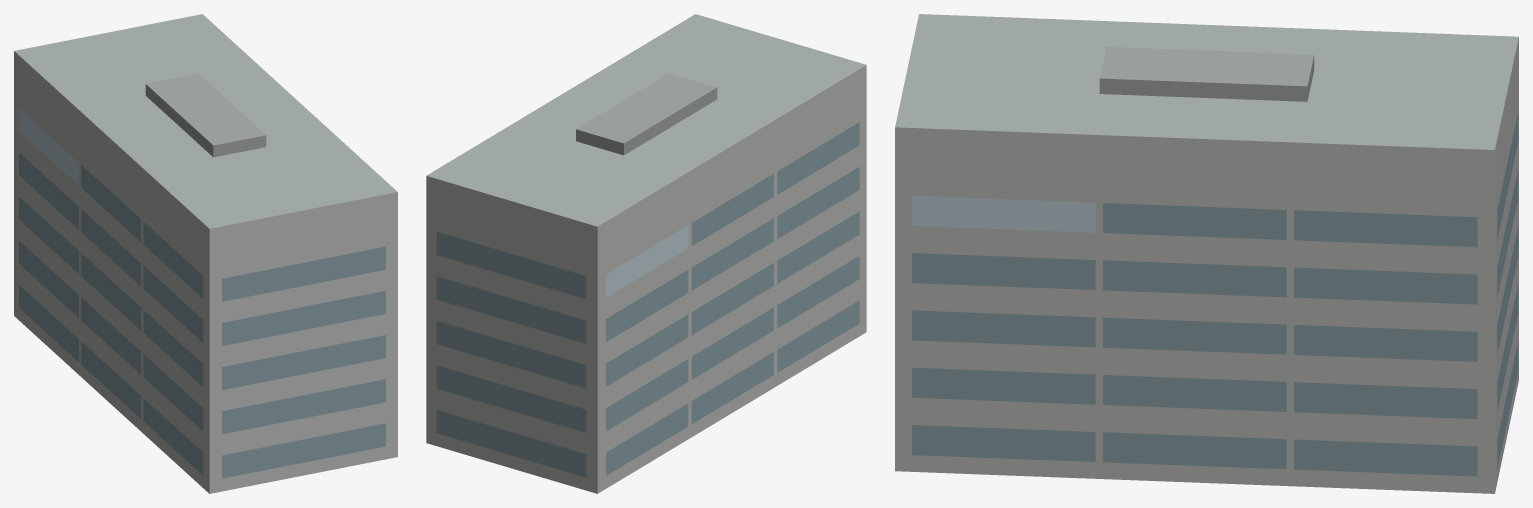
Rendered from fallback-olympic-athletes-village-220.glb.
The picture shows the model from 3 angles, left to right: view 1: azimuth 30°, elevation 25°; view 2: azimuth 150°, elevation 25°; view 3: azimuth 270°, elevation 25°; orthographic projection. The views are drawn at different scales.
Visible parts, largest first — view 1: fallback-olympic-athletes-village-220; view 2: fallback-olympic-athletes-village-220; view 3: fallback-olympic-athletes-village-220.
Part boxes in pixels (x1,y1,x2,y2): fallback-olympic-athletes-village-220: (14,14,397,493); fallback-olympic-athletes-village-220: (426,14,866,493); fallback-olympic-athletes-village-220: (895,14,1518,493).
Bounding box in the file's own units: 15.53 × 19.12 × 30.09.
